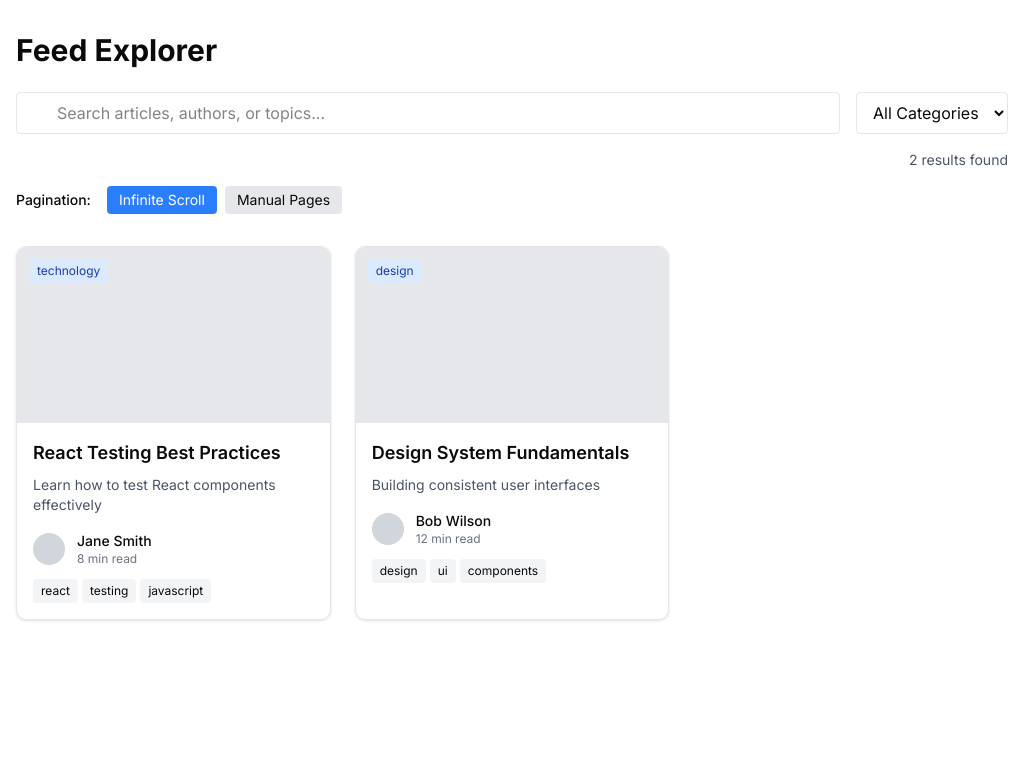
it: Feed Integration Tests (Working) › handles search functionality
The width and height of the screenshot is (1024, 768).
Expected: the text "2 results found" is shown, [909,150,1008,170]
Note: Search for "React"
Type "React" into the field with placeholder "Search articles, authors, or topics..." at (428, 113), box [16,92,840,134]
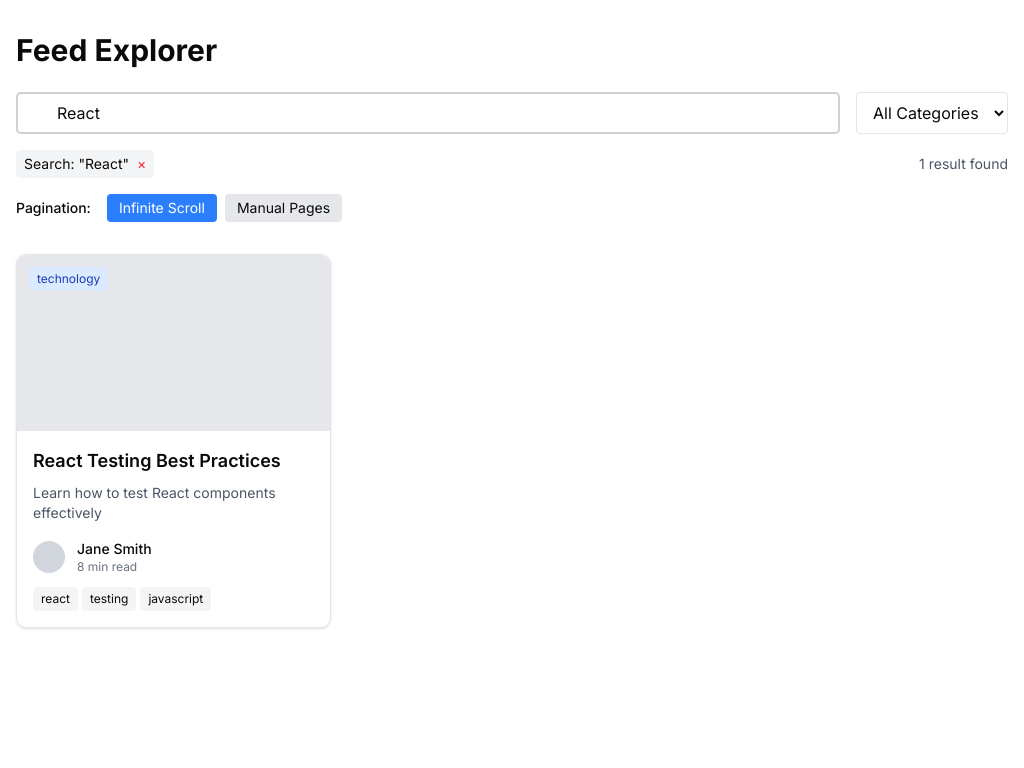
Expected: the heading "Design System Fundamentals" is gone
Expected: the text "1 result found" is shown, [919,154,1008,174]
Expected: the text "Search: \"React\"" is shown, [16,150,154,178]
